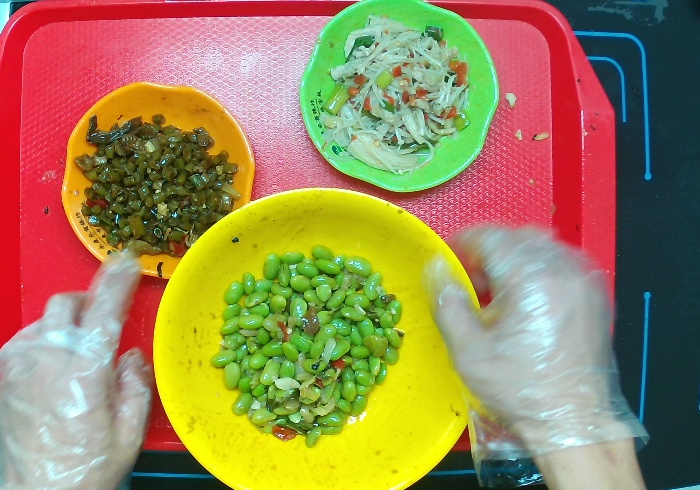YKMZ-Huang_Se_Tang_Wan: (144, 171, 506, 490)
YKMZ-Ju_Se_Ao_Bian_Wan: (52, 72, 265, 293)
YKMZ-Lv_Se_Ao_Bian_Wan: (292, 1, 504, 202)
